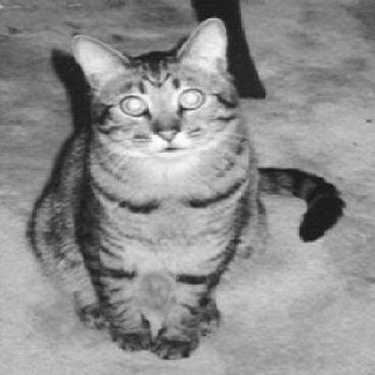cat: (24, 15, 347, 362)
